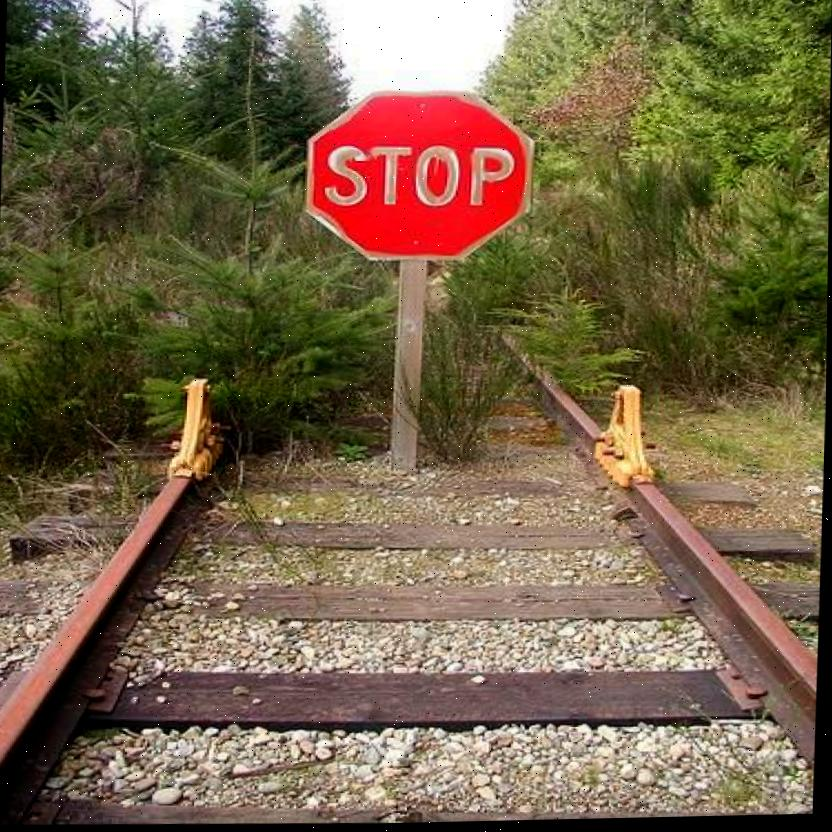Pole: (391, 266, 427, 473)
Sign: (312, 91, 527, 260)
